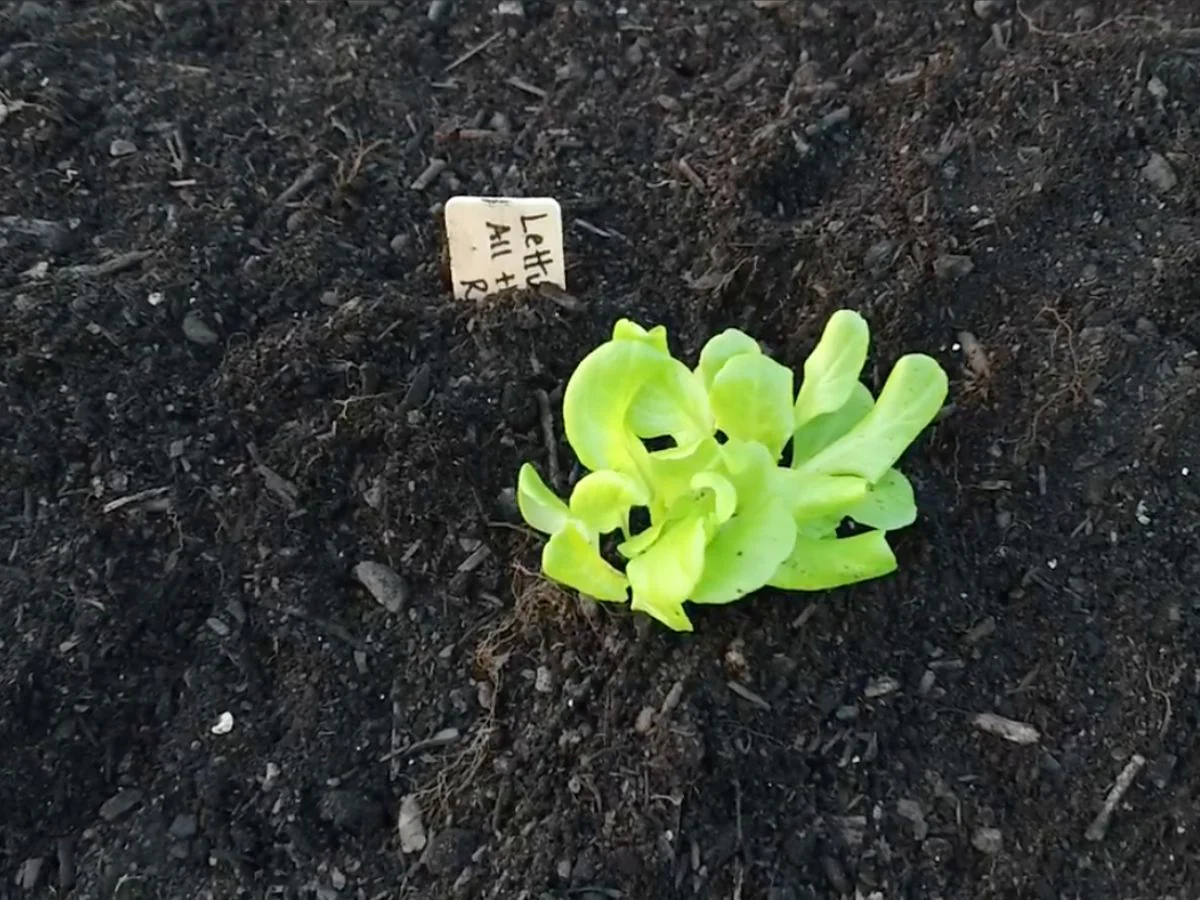lettuce: (546, 300, 938, 651)
